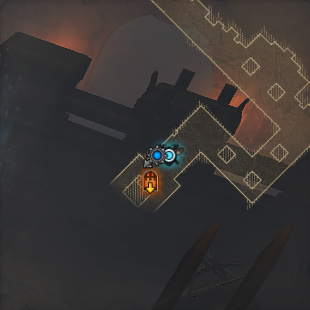Exit: (141, 167, 160, 194)
